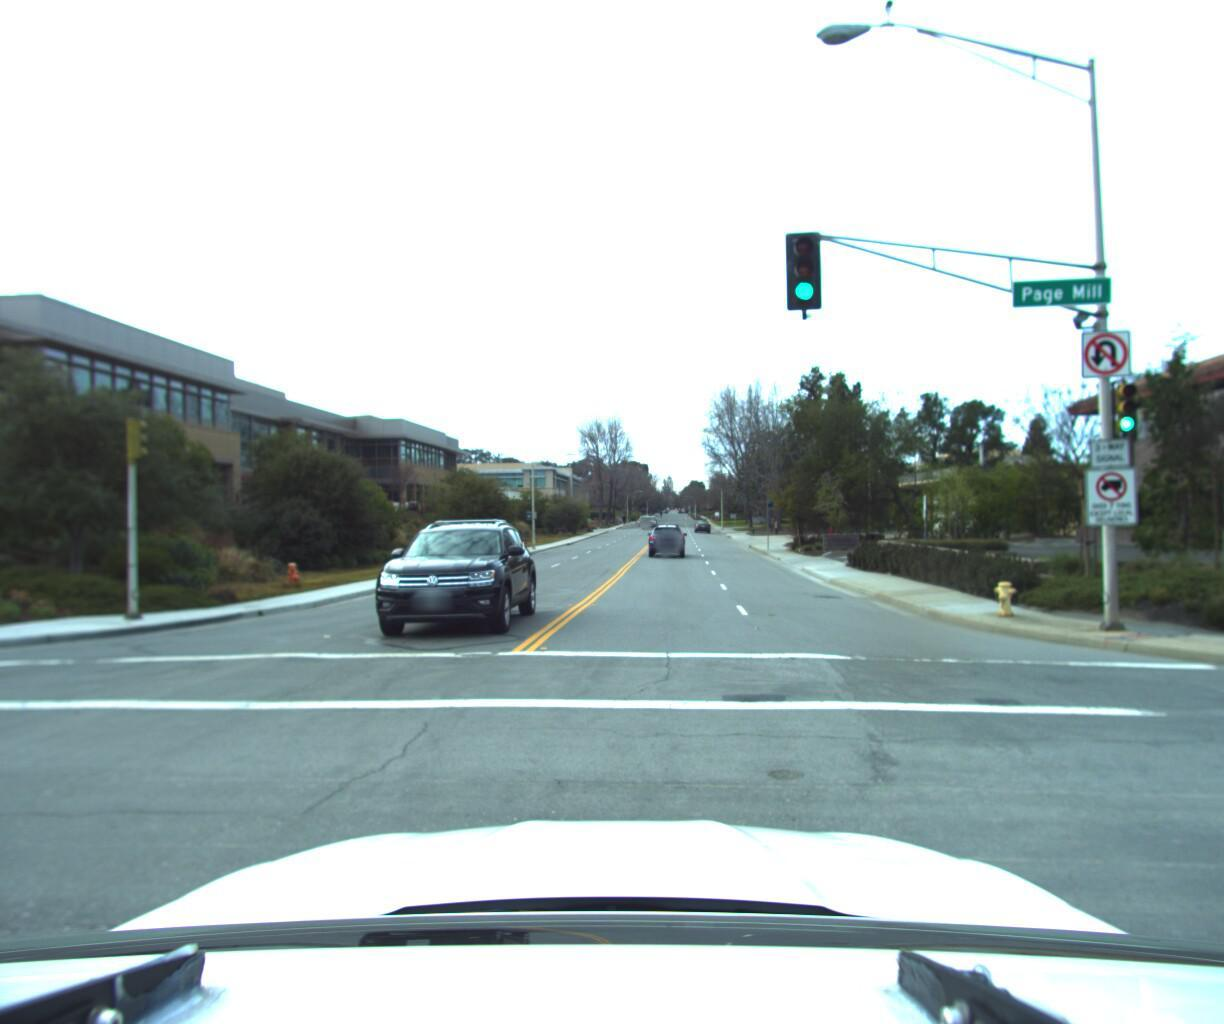car: (366, 518, 543, 643), (648, 519, 684, 554)
